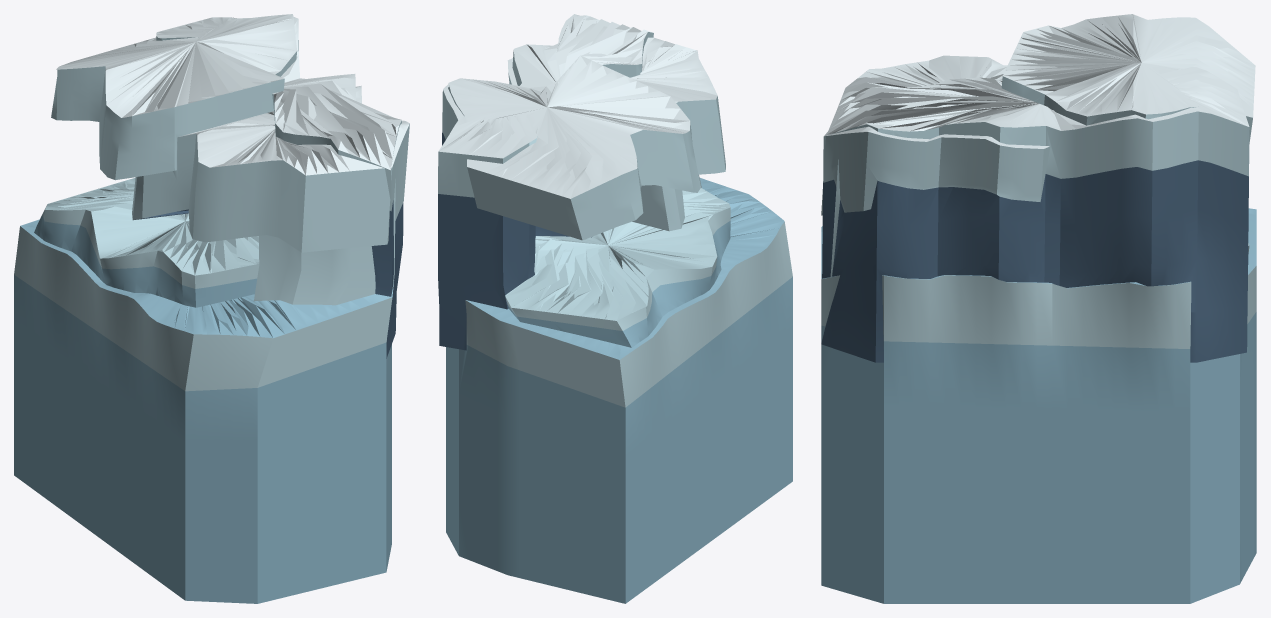
Rendered from glacier-sector.glb.
3 views of the same model, side by side, from view 1: azimuth 30°, elevation 25°; view 2: azimuth 150°, elevation 25°; view 3: azimuth 270°, elevation 25° (orthographic). The views are drawn at different scales.
Parts seen in each view (by area): view 1: fracture_glacier_sector__closed_angular_geology; view 2: fracture_glacier_sector__closed_angular_geology; view 3: fracture_glacier_sector__closed_angular_geology.
Boxes of the visible parts, box(x1,y1,x2,y2) form: fracture_glacier_sector__closed_angular_geology: box(14, 14, 409, 603); fracture_glacier_sector__closed_angular_geology: box(438, 14, 792, 603); fracture_glacier_sector__closed_angular_geology: box(821, 14, 1256, 603).
Size of the model in its own units: 256 by 456 by 360.
